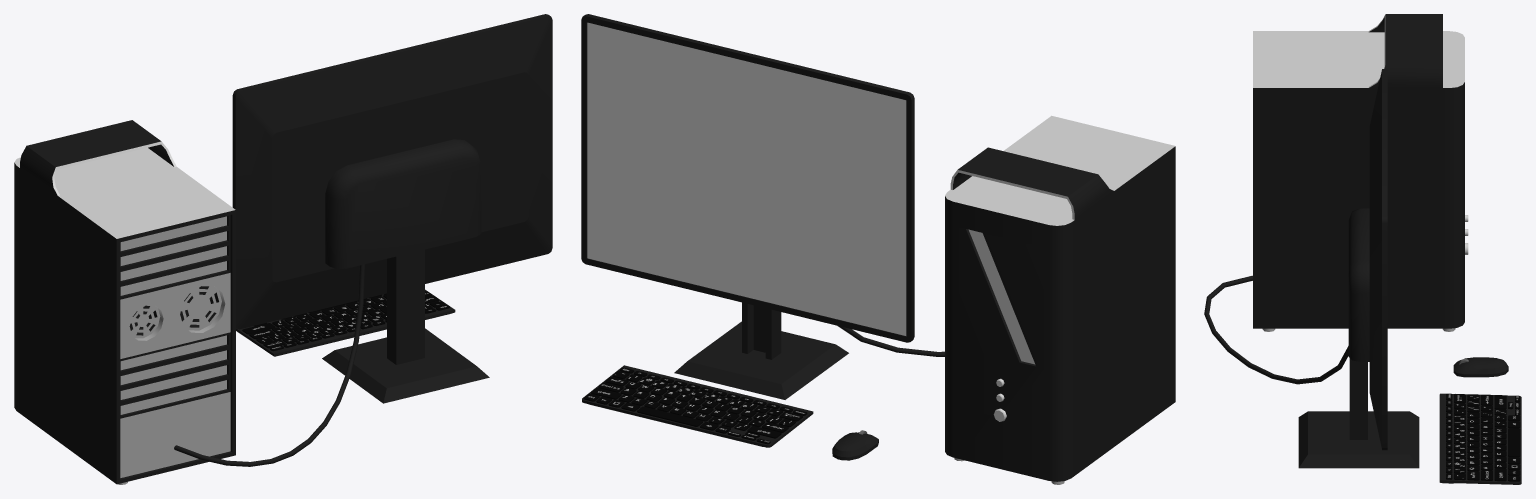
The picture shows the model from 3 angles, left to right: view 1: azimuth 30°, elevation 25°; view 2: azimuth 150°, elevation 25°; view 3: azimuth 270°, elevation 25°; orthographic projection. The views are drawn at different scales.
Visible parts, largest first — view 1: monitor_base, PC, keyboard_keys, monitor_cord, keyboard_base; view 2: monitor_screen, PC, monitor_base, keyboard_keys, keyboard_base, mouse; view 3: PC, monitor_base, keyboard_keys, keyboard_base, monitor_cord, mouse.
Boxes of the visible parts, <box> form: monitor_base: <box>232,14,552,403</box>; PC: <box>14,120,235,484</box>; keyboard_keys: <box>242,291,449,351</box>; monitor_cord: <box>174,264,364,466</box>; keyboard_base: <box>236,289,455,356</box>; monitor_screen: <box>587,22,906,335</box>; PC: <box>945,115,1175,484</box>; monitor_base: <box>581,14,914,399</box>; keyboard_keys: <box>583,367,807,444</box>; keyboard_base: <box>582,365,813,447</box>; mouse: <box>832,430,878,460</box>; PC: <box>1253,14,1468,331</box>; monitor_base: <box>1298,69,1419,468</box>; keyboard_keys: <box>1446,393,1520,481</box>; keyboard_base: <box>1439,393,1521,484</box>; monitor_cord: <box>1204,275,1348,384</box>; mouse: <box>1453,357,1508,377</box>.
Bounding box in the file's own units: 0.8845 × 0.4946 × 0.5152.
